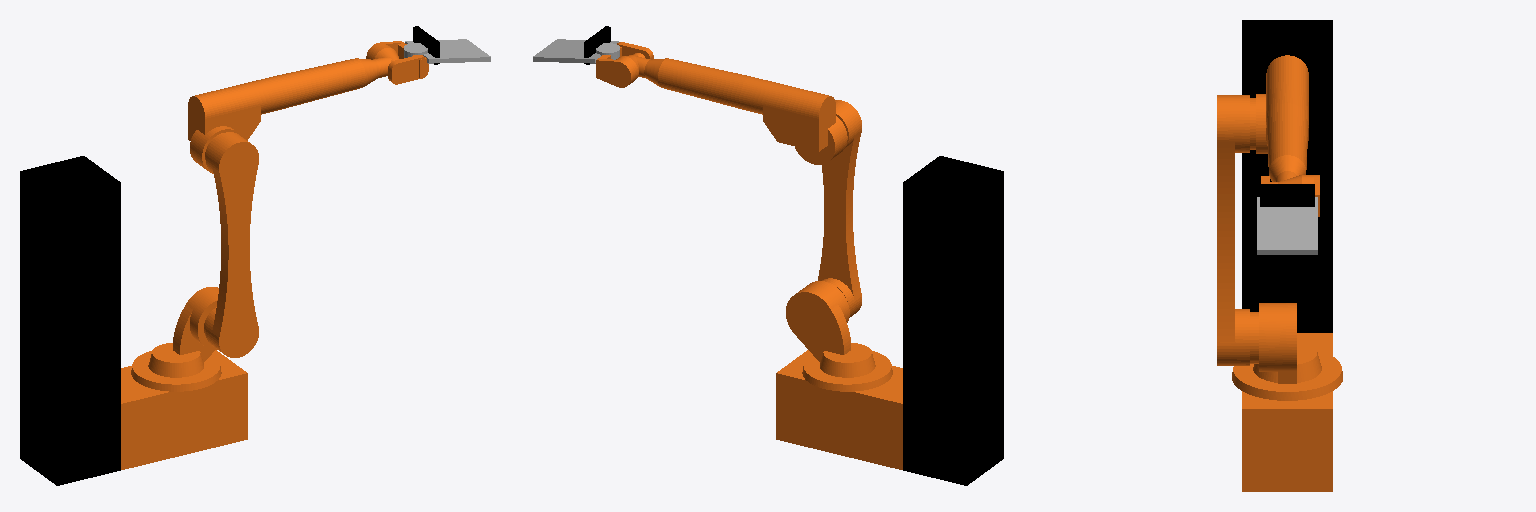
URDF robot description (kr20):
<?xml version="1.0"?>
<robot name="kr20">
  <!-- World frame -->
  <link name="world"/>

  <!-- Arm fixed to world frame -->
  <joint name="world__link_00" type="fixed">
    <parent link="world"/>
    <child link="link_00"/>
    <origin rpy="0 0 0" xyz="0 0 0"/>
  </joint>

  <!-- Material definitions -->
  <material name="Orange">
    <color rgba="0.95 0.5 0.15 1.0"/>
  </material>

  <material name="Grey">
    <color rgba="0.7 0.7 0.7 1.0"/>
  </material>

  <material name="Black">
    <color rgba="0.0 0.0 0.0 1.0"/>
  </material>

  <!-- Link 00 -->
  <link name="link_00">
    <visual>
      <origin rpy="0 0 0" xyz="-0.5 0 0.65"/>
      <geometry>
        <box size="0.3 0.3 1.3"/>
      </geometry>
      <material name="Black"/>
    </visual>
    <collision>
      <origin rpy="0 0 0" xyz="-0.5 0 0.65"/>
      <geometry>
        <box size="0.3 0.3 1.3"/>
      </geometry>
    </collision>
    <inertial>
      <mass value="157.633"/>
      <inertia ixx="1" ixy="0" ixz="0" iyy="1" iyz="0" izz="1"/>
    </inertial>
  </link>

  <!-- Joint between link_00 and link_12 -->
  <joint name="link_00__link_12" type="revolute">
    <axis xyz="0 0 1"/>
    <origin rpy="0 0 0" xyz="0 0 0.15"/>
    <parent link="link_00"/>
    <child link="link_12"/>
    <limit effort="1000" lower="-3.14" upper="3.14" velocity="0.5"/>
  </joint>

  <!-- Link 12 -->
  <link name="link_12">
    <visual>
      <origin rpy="0 0 0" xyz="-0.05 0 0"/>
      <geometry>
        <box size="0.6 0.3 0.3"/>
      </geometry>
      <material name="Orange"/>
    </visual>
    <collision>
      <origin rpy="0 0 0" xyz="-0.05 0 0"/>
      <geometry>
        <box size="0.6 0.3 0.3"/>
      </geometry>
    </collision>
    <inertial>
      <mass value="157.633"/>
      <inertia ixx="1" ixy="0" ixz="0" iyy="1" iyz="0" izz="1"/>
    </inertial>
  </link>

  <!-- Joint between link_12 and link_01 -->
  <joint name="link_12__link_01" type="revolute">
    <axis xyz="0 0 1"/>
    <origin rpy="0 0 0" xyz="0 0 0.15"/>
    <parent link="link_12"/>
    <child link="link_01"/>
    <limit effort="1000" lower="-2" upper="2" velocity="0.5"/>
  </joint>

  <!-- Link 01 -->
  <link name="link_01">
    <visual>
      <origin rpy="0 0 0" xyz="0 0 0"/>
      <geometry>
        <mesh filename="package://kuka_kr20_description/meshes/link01.stl" scale="0.001 0.001 0.001"/>
      </geometry>
      <material name="Orange"/>
    </visual>
    <collision>
      <origin rpy="0 0 0" xyz="0 0 0"/>
      <geometry>
        <mesh filename="package://kuka_kr20_description/meshes/link01.stl" scale="0.001 0.001 0.001"/>
      </geometry>
    </collision>
    <inertial>
      <mass value="157.633"/>
      <inertia ixx="13.235" ixy="0" ixz="0" iyy="13.235" iyz="0" izz="9.655"/>
    </inertial>
  </link>

  <!-- Joint between link_01 and link_02 -->
  <joint name="link_01__link_02" type="revolute">
    <axis xyz="0 1 0"/>
    <origin rpy="0 0 0" xyz="0.160 -0.095 0.220"/>
    <parent link="link_01"/>
    <child link="link_02"/>
    <limit effort="1000" lower="-1.5708" upper="1.7453" velocity="0.5"/>
  </joint>

  <!-- Link 02 -->
  <link name="link_02">
    <visual>
      <origin rpy="0 0 0" xyz="0 0 0"/>
      <geometry>
        <mesh filename="package://kuka_kr20_description/meshes/link02.stl" scale="0.001 0.001 0.001"/>
      </geometry>
      <material name="Orange"/>
    </visual>
    <collision>
      <origin rpy="0 0 0" xyz="0 0 0"/>
      <geometry>
        <mesh filename="package://kuka_kr20_description/meshes/link02.stl" scale="0.001 0.001 0.001"/>
      </geometry>
    </collision>
    <inertial>
      <mass value="10"/>
      <inertia ixx="10" ixy="0" ixz="0" iyy="10" iyz="0" izz="10"/>
    </inertial>
  </link>

  <!-- Joint between link_02 and link_03 -->
  <joint name="link_02__link_03" type="revolute">
    <axis xyz="0 -1 0"/>
    <origin rpy="0 0 0" xyz="0.00 -0.01 0.780"/>
    <parent link="link_02"/>
    <child link="link_03"/>
    <limit effort="1000" lower="-1.55" upper="2" velocity="0.5"/>
  </joint>

  <!-- Link 03 -->
  <link name="link_03">
    <visual>
      <origin rpy="0 0 0" xyz="0 0 0"/>
      <geometry>
        <mesh filename="package://kuka_kr20_description/meshes/link03.stl" scale="0.001 0.001 0.001"/>
      </geometry>
      <material name="Orange"/>
    </visual>
    <collision>
      <origin rpy="0 0 0" xyz="0 0 0"/>
      <geometry>
        <mesh filename="package://kuka_kr20_description/meshes/link03.stl" scale="0.001 0.001 0.001"/>
      </geometry>
    </collision>
    <inertial>
      <mass value="7"/>
      <inertia ixx="5" ixy="0" ixz="0" iyy="5" iyz="0" izz="5"/>
    </inertial>
  </link>

  <!-- Joint between link_03 and link_04 -->
  <joint name="link_03__link_04" type="revolute">
    <axis xyz="1 0 0"/>
    <origin rpy="0 0 0" xyz="0.700 0.105 0.150"/>
    <parent link="link_03"/>
    <child link="link_04"/>
    <limit effort="1000" lower="-3.0" upper="3.0" velocity="0.5"/>
  </joint>

  <!-- Link 04 -->
  <link name="link_04">
    <visual>
      <origin rpy="0 0 0" xyz="0 0 0"/>
      <geometry>
        <mesh filename="package://kuka_kr20_description/meshes/link04.stl" scale="0.001 0.001 0.001"/>
      </geometry>
      <material name="Orange"/>
    </visual>
    <collision>
      <origin rpy="0 0 0" xyz="0 0 0"/>
      <geometry>
        <mesh filename="package://kuka_kr20_description/meshes/link04.stl" scale="0.001 0.001 0.001"/>
      </geometry>
    </collision>
    <inertial>
      <mass value="2"/>
      <inertia ixx="1" ixy="0" ixz="0" iyy="1" iyz="0" izz="1"/>
    </inertial>
  </link>

  <!-- Joint between link_04 and link_05 -->
  <joint name="link_04__link_05" type="revolute">
    <axis xyz="0 -1 0"/>
    <origin rpy="0 0 0" xyz="0.155 0.000 0.000"/>
    <parent link="link_04"/>
    <child link="link_05"/>
    <limit effort="1000" lower="-2.0" upper="2.0" velocity="0.5"/>
  </joint>

  <!-- Link 05 -->
  <link name="link_05">
    <visual>
      <origin rpy="0 0 0" xyz="0 0 0"/>
      <geometry>
        <mesh filename="package://kuka_kr20_description/meshes/link05.stl" scale="0.001 0.001 0.001"/>
      </geometry>
      <material name="Orange"/>
    </visual>
    <collision>
      <origin rpy="0 0 0" xyz="0 0 0"/>
      <geometry>
        <mesh filename="package://kuka_kr20_description/meshes/link05.stl" scale="0.001 0.001 0.001"/>
      </geometry>
    </collision>
    <inertial>
      <mass value="2"/>
      <inertia ixx="1" ixy="0" ixz="0" iyy="1" iyz="0" izz="1"/>
    </inertial>
  </link>

  <!-- Shovel Gripper Components -->

  <!-- Shovel Base -->
  <link name="shovel_base">
    <visual>
      <origin xyz="0 0 0" rpy="0 0 0"/>
      <geometry>
        <cylinder radius="0.05" length="0.1"/>
      </geometry>
      <material name="Grey"/>
    </visual>
    <collision>
      <origin xyz="0 0 0" rpy="0 0 0"/>
      <geometry>
        <cylinder radius="0.05" length="0.1"/>
      </geometry>
    </collision>
    <inertial>
      <mass value="0.5"/>
      <inertia ixx="0.01" ixy="0" ixz="0" iyy="0.01" iyz="0" izz="0.01"/>
    </inertial>
  </link>

  <!-- Joint between link_05 and shovel_base -->
  <joint name="link05__shovel_base" type="revolute">
    <axis xyz="0 1 0"/>
    <parent link="link_05"/>
    <child link="shovel_base"/>
    <origin xyz="0.115 0 0" rpy="0 0 0"/>
    <limit effort="1000" lower="-3.14" upper="3.14" velocity="0.5"/>
  </joint>

  <!-- Shovel Plate -->
  <link name="shovel_plate">
    <visual>
      <origin xyz="0.15 0 0" rpy="0 0.2 0"/>
      <geometry>
        <box size="0.3 0.2 0.02"/>
      </geometry>
      <material name="Grey"/>
    </visual>
    <collision>
      <origin xyz="0.15 0 0" rpy="0 0.2 0"/>
      <geometry>
        <box size="0.3 0.2 0.02"/>
      </geometry>
    </collision>
    <inertial>
      <mass value="0.2"/>
      <inertia ixx="0.01" ixy="0" ixz="0" iyy="0.01" iyz="0" izz="0.01"/>
    </inertial>
  </link>

  <!-- Fixed joint between shovel_base and shovel_plate -->
  <joint name="shovel_base__shovel_plate" type="fixed">
    <parent link="shovel_base"/>
    <child link="shovel_plate"/>
    <origin xyz="0 0 0" rpy="0 0 0"/>
  </joint>

  <!-- Pusher -->
  <link name="pusher">
    <visual>
      <origin xyz="-0.1 0 0.05" rpy="0 0 0"/>
      <geometry>
        <box size="0.02 0.18 0.1"/>
      </geometry>
      <material name="Black"/>
    </visual>
    <collision>
      <origin xyz="0 0 0.05" rpy="0 0 0"/>
      <geometry>
        <box size="0.02 0.18 0.1"/>
      </geometry>
    </collision>
    <inertial>
      <mass value="0.1"/>
      <inertia ixx="0.01" ixy="0" ixz="0" iyy="0.01" iyz="0" izz="0.01"/>
    </inertial>
  </link>

  <!-- Prismatic joint for pusher -->
  <joint name="shovel_base__pusher" type="prismatic">
    <axis xyz="1 0 0"/>
    <parent link="shovel_base"/>
    <child link="pusher"/>
    <origin xyz="0.15 0 0" rpy="0 0 0"/>
    <limit effort="1000" lower="0" upper="0.25" velocity="0.5"/>
  </joint>
</robot>

--- Facts derived from the render (not from the file) ---
Views: 3 orthographic renders of the robot side by side, from view 1: azimuth 30°, elevation 25°; view 2: azimuth 150°, elevation 25°; view 3: azimuth 270°, elevation 25°.
Model kr20 with 11 links and 10 joints (7 revolute, 1 prismatic, 2 fixed), rooted at world, posed every joint at zero.
Visible links, largest first — view 1: link_00, link_12, link_02, link_03, link_01, link_05, shovel_plate, link_04; view 2: link_00, link_12, link_03, link_01, link_02, link_05, shovel_plate, link_04; view 3: link_00, link_12, link_02, link_01, link_03, shovel_plate, pusher, link_04.
Boxes of the visible links, x1,y1,x2,y2 form: link_00: [20, 156, 120, 485]; link_12: [121, 350, 247, 469]; link_02: [204, 132, 258, 357]; link_03: [188, 58, 365, 173]; link_01: [131, 287, 221, 391]; link_05: [366, 41, 428, 84]; shovel_plate: [405, 39, 490, 63]; link_04: [357, 44, 398, 86]; link_00: [903, 156, 1003, 485]; link_12: [776, 350, 902, 469]; link_03: [658, 58, 847, 164]; link_01: [786, 281, 892, 391]; link_02: [818, 100, 861, 317]; link_05: [596, 42, 653, 87]; shovel_plate: [533, 39, 618, 63]; link_04: [616, 54, 666, 86]; link_00: [1242, 20, 1332, 332]; link_12: [1242, 333, 1332, 491]; link_02: [1217, 95, 1258, 365]; link_01: [1232, 303, 1342, 400]; link_03: [1256, 55, 1308, 169]; shovel_plate: [1257, 197, 1317, 254]; pusher: [1260, 184, 1314, 206]; link_04: [1269, 155, 1313, 183].
Bounding box of the posed robot: 2.08 × 0.4199 × 1.55 m (x, y, z).
Meshes: 5 distinct files referenced, 5 mesh visuals loaded (1 binary STL, 4 ASCII STL).